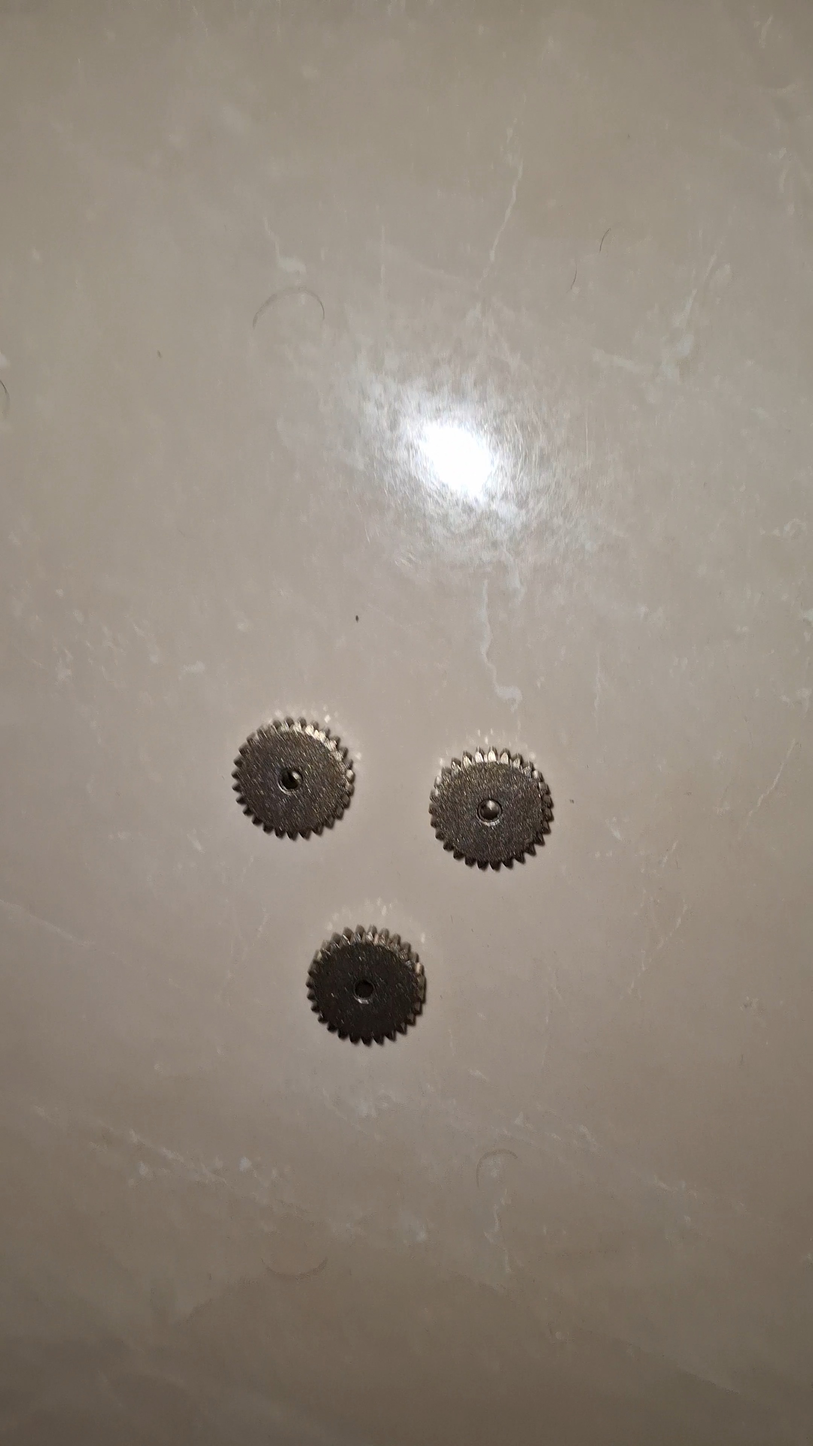spur gear: (430, 748, 553, 869), (233, 719, 354, 838), (308, 926, 425, 1045)
